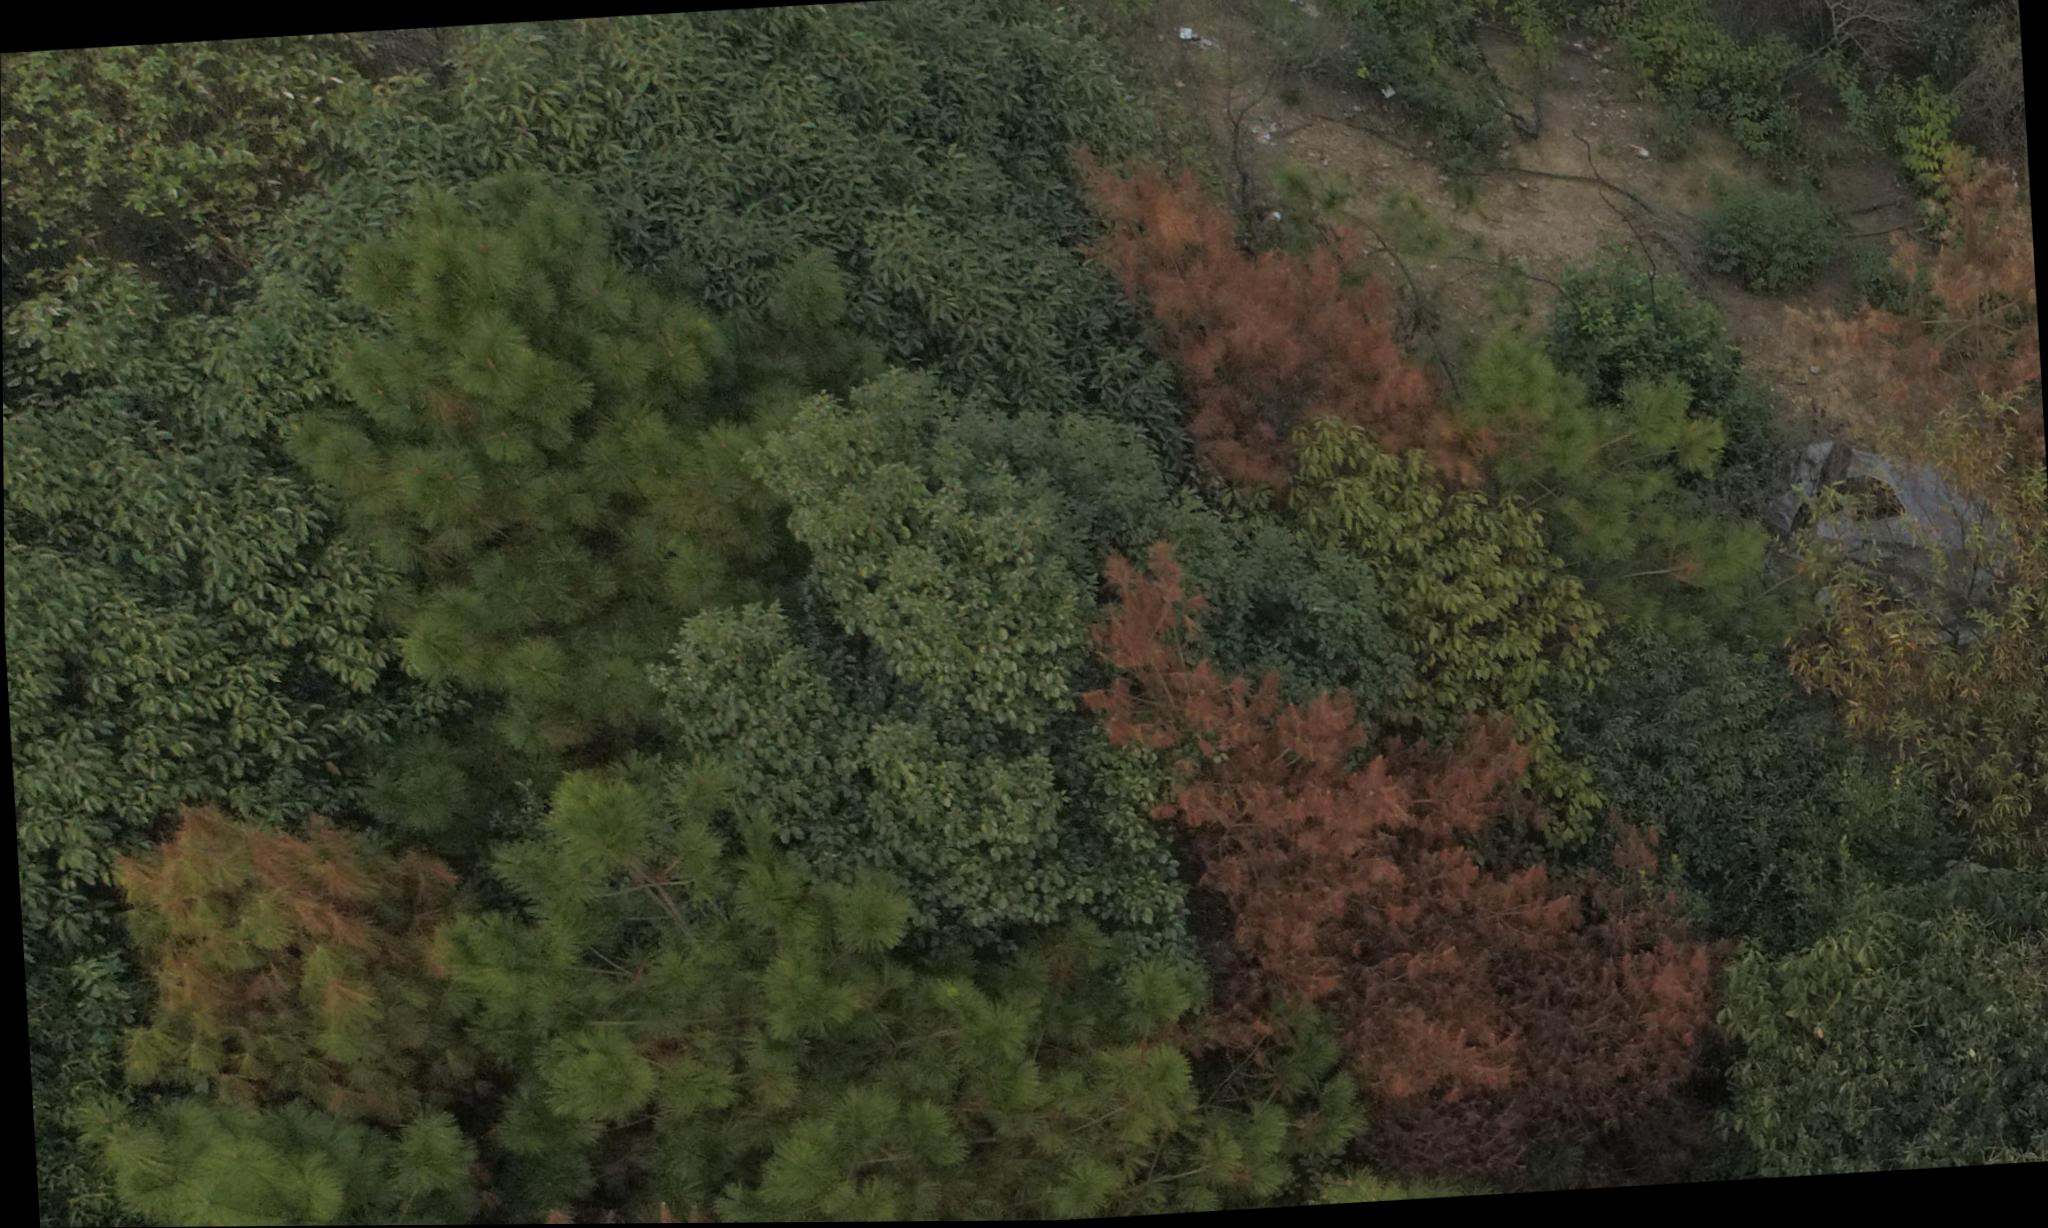heavy: (1092, 598, 1719, 1161), (1070, 104, 1485, 507)
light: (85, 784, 542, 1175)
